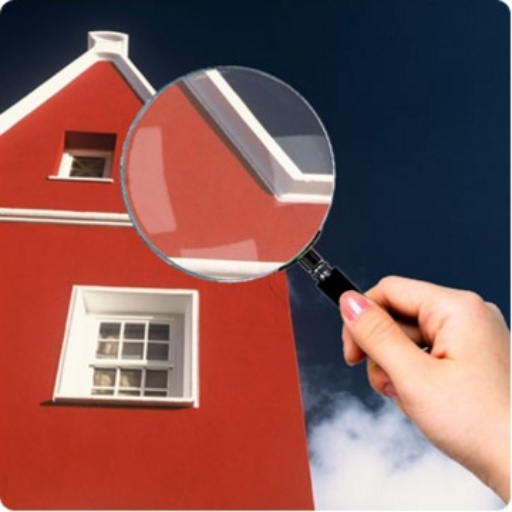hand: (329, 246, 509, 476)
